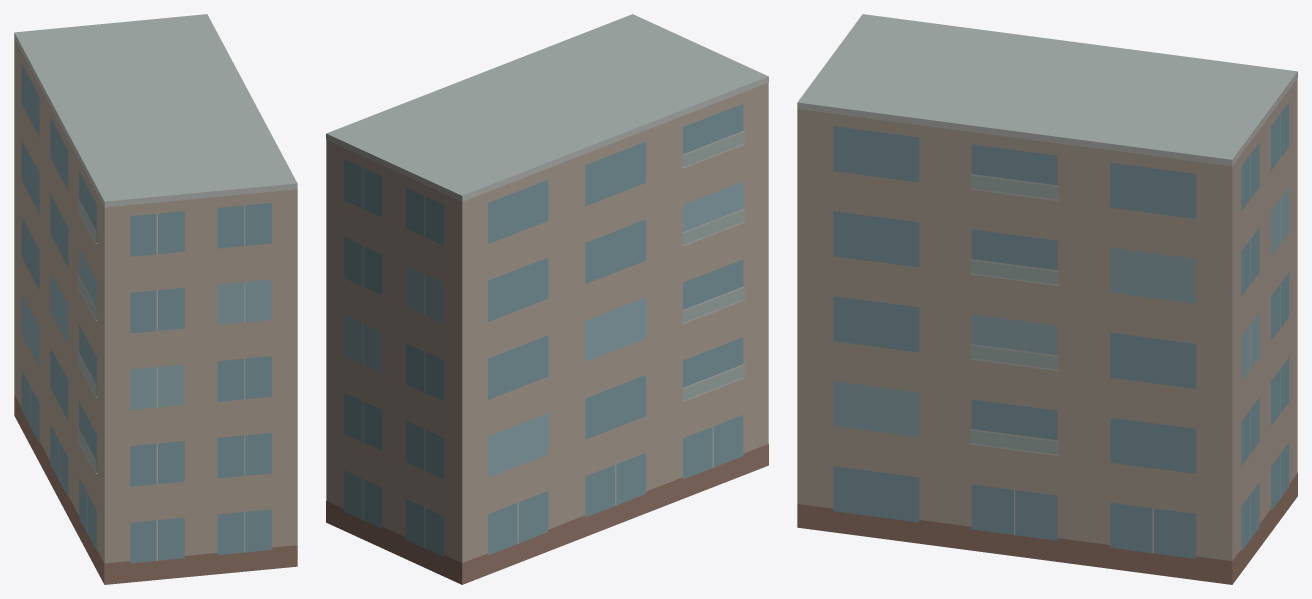
File: survey-upis-32535692.glb
The picture shows the model from 3 angles, left to right: view 1: azimuth 30°, elevation 25°; view 2: azimuth 150°, elevation 25°; view 3: azimuth 270°, elevation 25°; orthographic projection. The views are drawn at different scales.
Visible parts, largest first — view 1: survey-upis-32535692.tmp; view 2: survey-upis-32535692.tmp; view 3: survey-upis-32535692.tmp.
Part boxes in pixels (box(x1,y1,x2,y2)): survey-upis-32535692.tmp: box(14, 14, 297, 584); survey-upis-32535692.tmp: box(326, 14, 768, 584); survey-upis-32535692.tmp: box(797, 14, 1297, 584).
Size of the model in its own units: 11.71 by 15.9 by 16.98.
